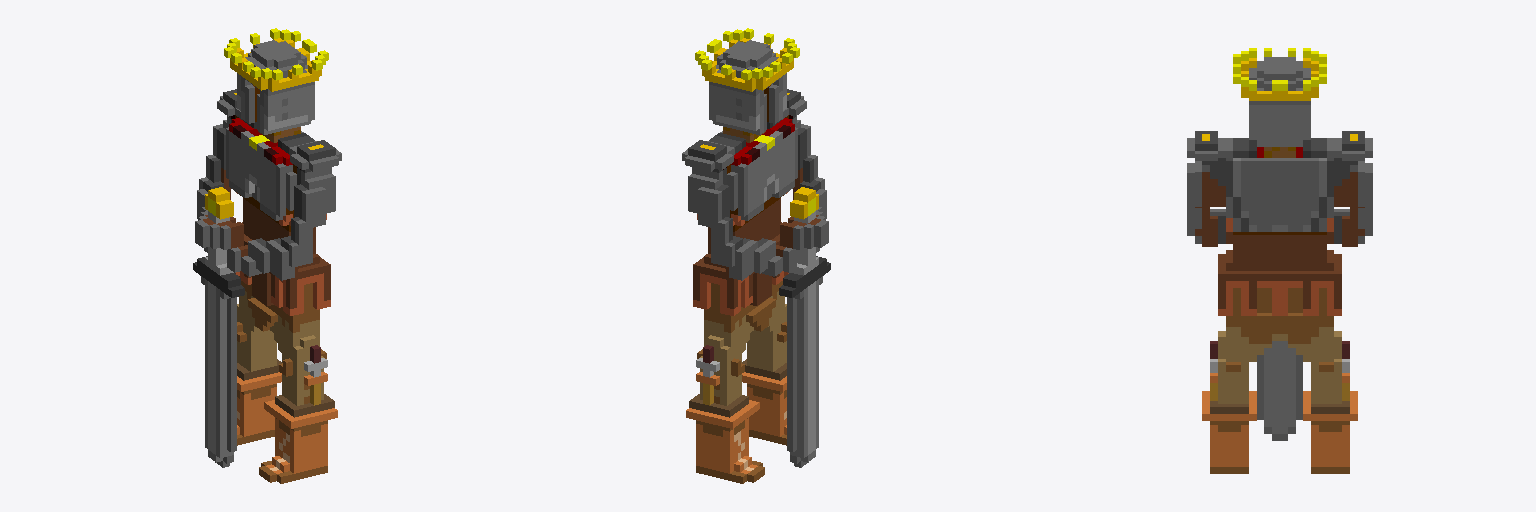
The picture shows the model from 3 angles: view 1: azimuth 30°, elevation 25°; view 2: azimuth 150°, elevation 25°; view 3: azimuth 270°, elevation 25°; orthographic projection.
Visible parts, largest first — view 1: object 1; view 2: object 1; view 3: object 1.
Boxes of the visible parts, x1,y1,x2,y2 form: object 1: [193, 28, 341, 483]; object 1: [682, 28, 830, 483]; object 1: [1187, 48, 1372, 473].
Bounding box in the file's own units: 1.7 × 5.7 × 2.4.
1 materials, 1 textured.